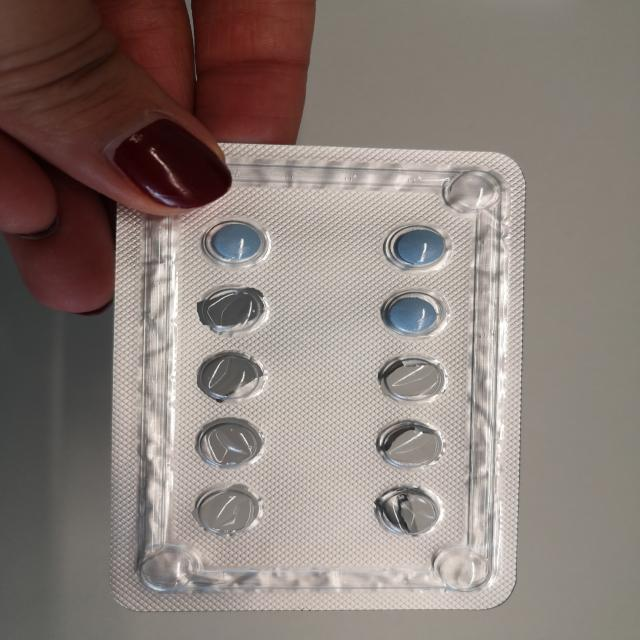Empty: (373, 418, 447, 471), (370, 484, 444, 537), (193, 417, 265, 471), (192, 351, 266, 402), (192, 484, 265, 535), (378, 354, 448, 404), (198, 284, 268, 333)
Pill: (378, 288, 449, 339), (382, 223, 450, 272), (201, 220, 267, 266)
